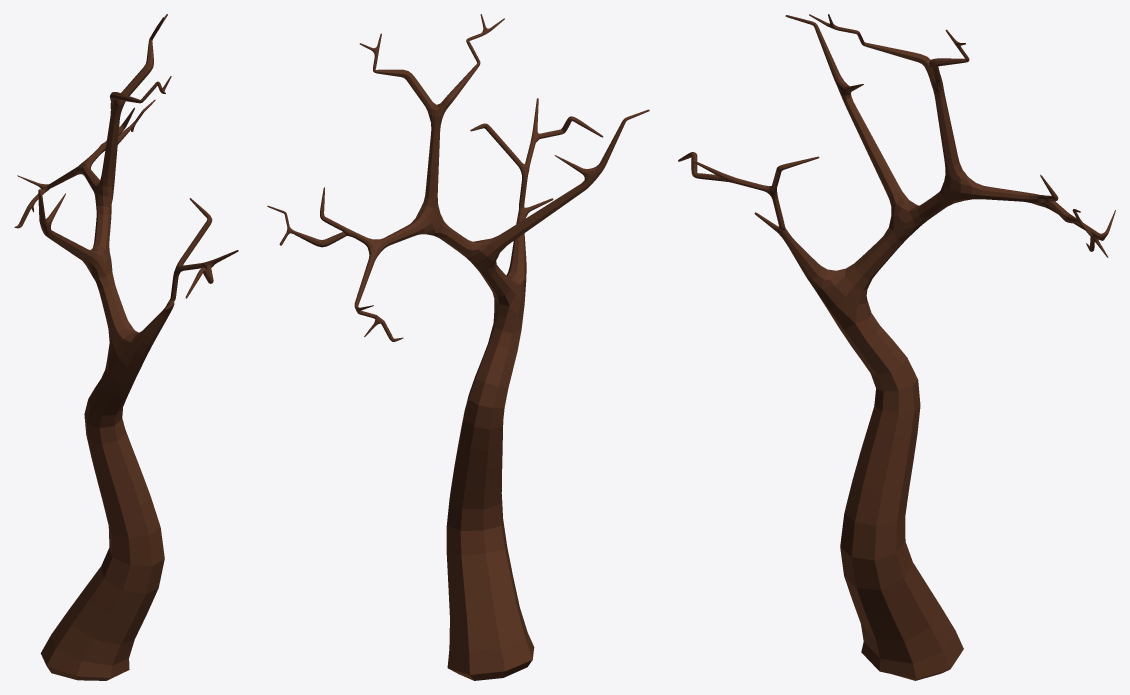
Rendered from FH DryTree.fbx.
3 renders of one model, left to right at view 1: azimuth 30°, elevation 25°; view 2: azimuth 150°, elevation 25°; view 3: azimuth 270°, elevation 25°, orthographic. The views are drawn at different scales.
Parts seen in each view (by area): view 1: DryTree; view 2: DryTree; view 3: DryTree.
Boxes of the visible parts, x1,y1,x2,y2 form: DryTree: (14,14,238,680); DryTree: (267,14,649,680); DryTree: (678,14,1115,680).
Bounding box in the file's own units: 1366 × 3278 × 1901.
